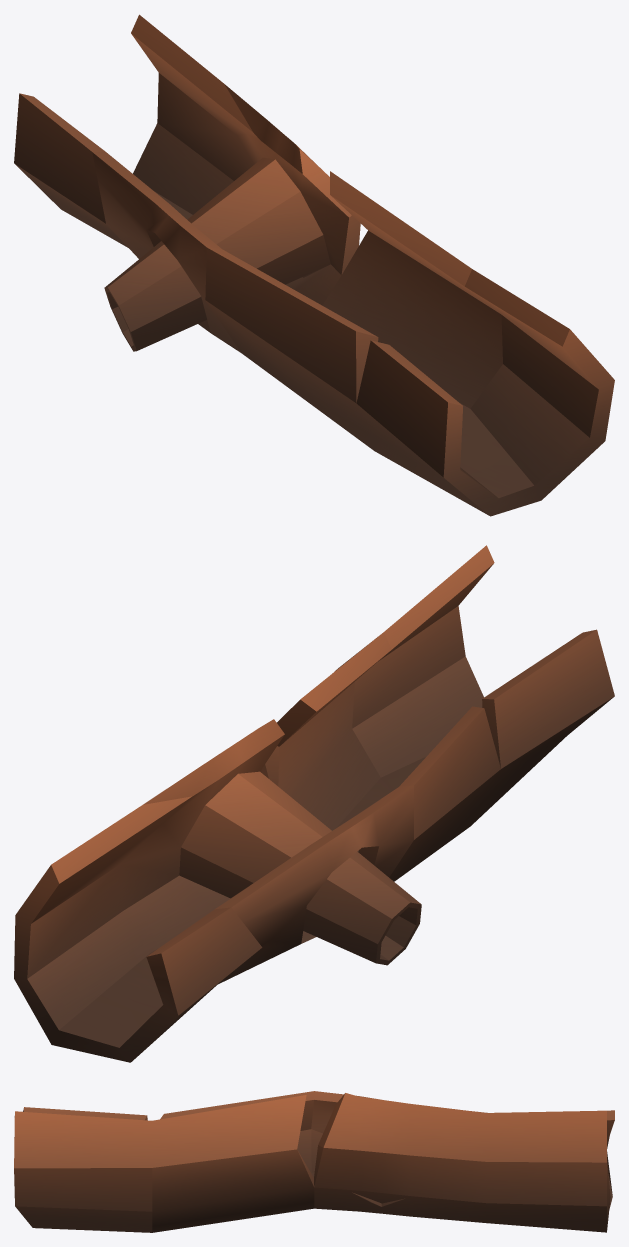
Rendered from maderaCaida5.fbx.
The picture shows the model from 3 angles, top to bottom: view 1: azimuth 30°, elevation 25°; view 2: azimuth 150°, elevation 25°; view 3: azimuth 270°, elevation 25°; orthographic projection. The views are drawn at different scales.
Visible parts, largest first — view 1: maderaCaida5; view 2: maderaCaida5; view 3: maderaCaida5.
Part boxes in pixels (x1=…): maderaCaida5: x1=14, y1=14, x2=614, y2=516; maderaCaida5: x1=14, y1=545, x2=614, y2=1062; maderaCaida5: x1=14, y1=1091, x2=614, y2=1232.
Size of the model in its own units: 447 by 335 by 1397.
